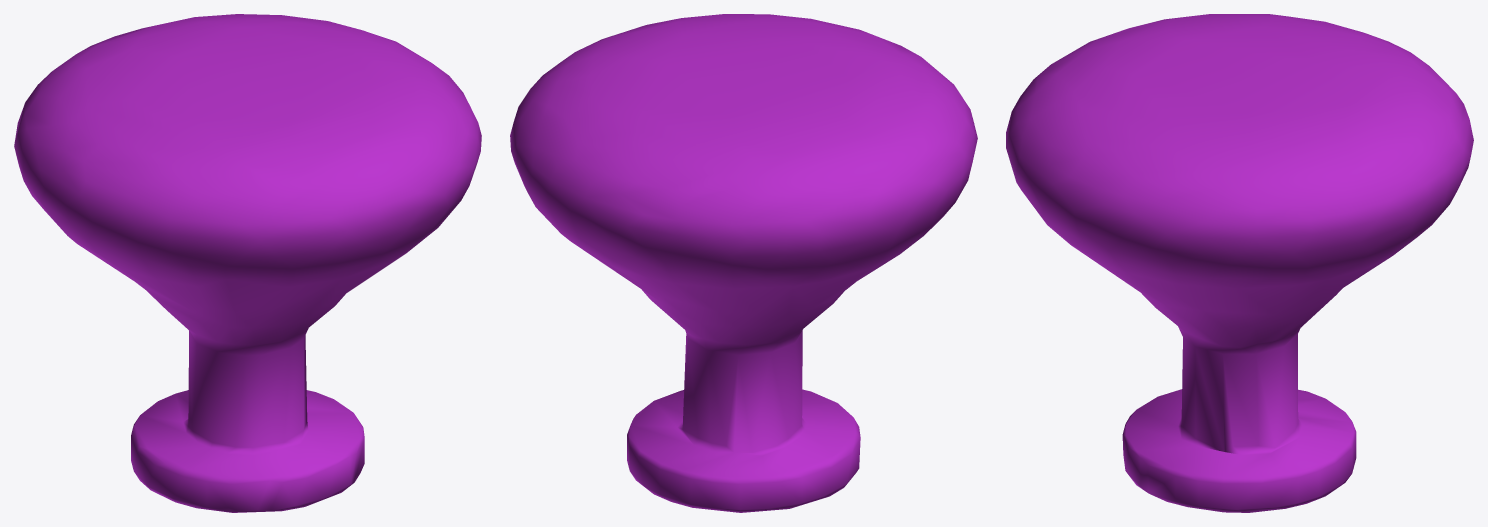
Rendered from rychka_2_1.glb.
3 renders of one model, left to right at view 1: azimuth 30°, elevation 25°; view 2: azimuth 150°, elevation 25°; view 3: azimuth 270°, elevation 25°, orthographic.
Visible parts, largest first — view 1: L4.knob05BL; view 2: L4.knob05BL; view 3: L4.knob05BL.
Boxes of the visible parts, box(x1,y1,x2,y2) form: L4.knob05BL: box(14, 14, 481, 512); L4.knob05BL: box(510, 14, 977, 512); L4.knob05BL: box(1006, 14, 1473, 512).
Bounding box in the file's own units: 2.96 × 2.71 × 2.96.
